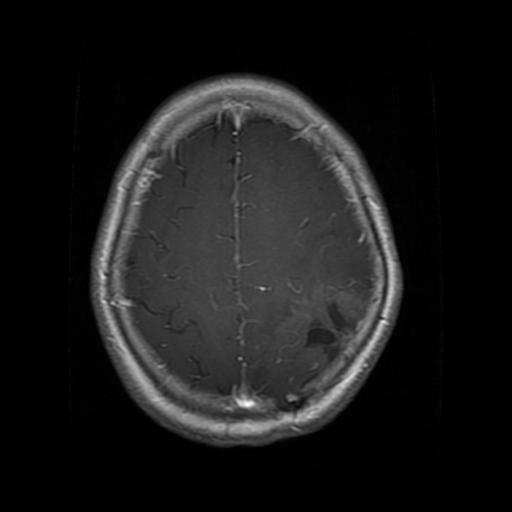Tumour-Glioma: (286, 288, 364, 369)
